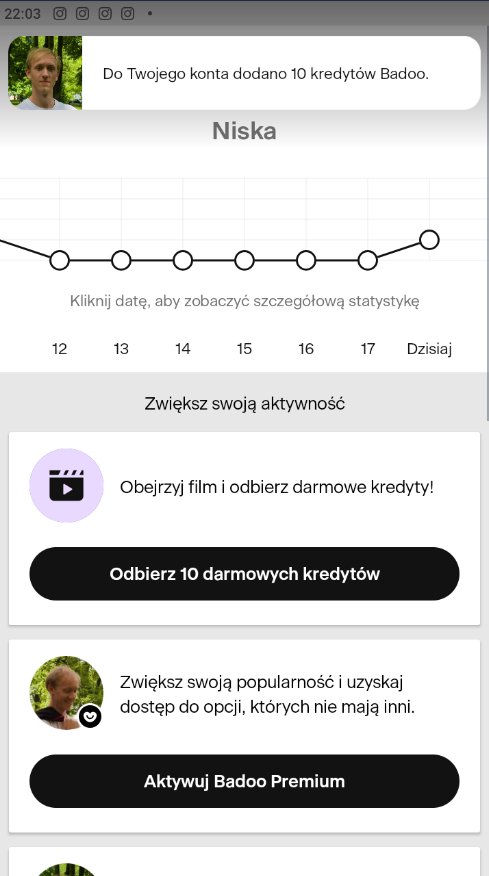kupno_button: (31, 749, 461, 810)
start_button: (29, 541, 459, 604)
